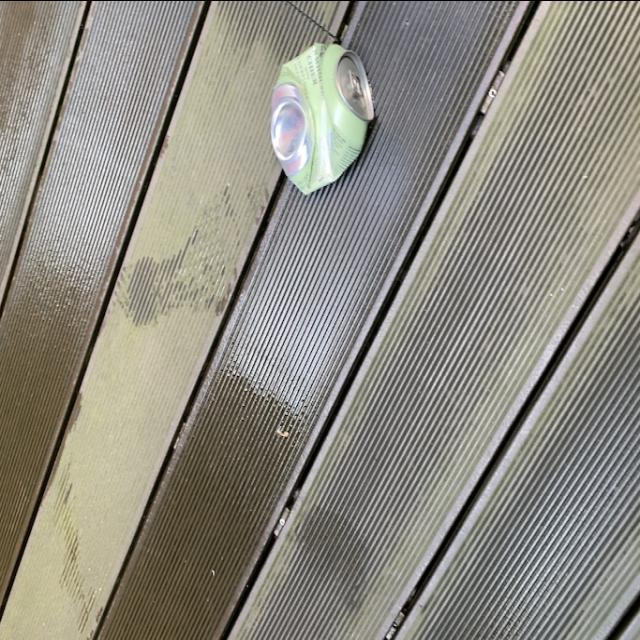Aluminum Can: (272, 35, 380, 196)
